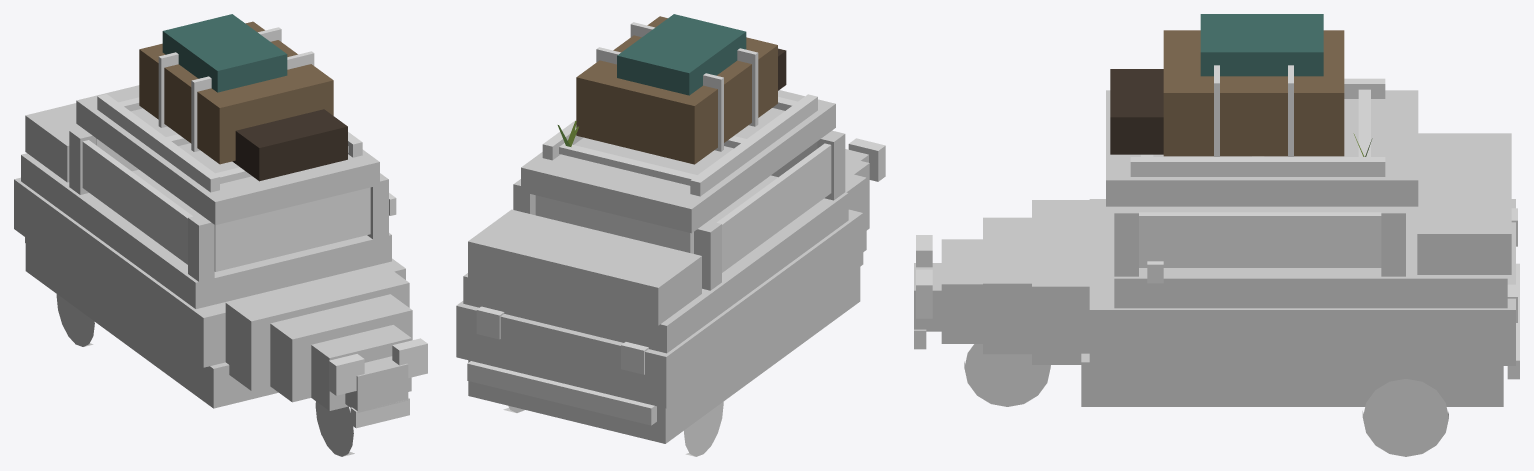
File: threewheeler.glb
3 views of the same model, side by side, from view 1: azimuth 30°, elevation 25°; view 2: azimuth 150°, elevation 25°; view 3: azimuth 270°, elevation 25° (orthographic). The views are drawn at different scales.
Parts seen in each view (by area): view 1: Body_Waist, Body_Tub, Body_Roof, Luggage_Bundle, Body_Snout1, Body_Sill, Windscreen, Body_Snout2, Luggage_Roll, Luggage_Crate, SideGlassL, Body_Snout3 (+13 smaller); view 2: Body_Tub, Body_Tail, Body_Roof, Luggage_Bundle, Body_Waist, Body_Sill, Luggage_Roll, SideGlassL, Bumper_Rear_Grey, RearGlass, Rack_RailL_Grey, Rack_Bar_Grey-72 (+12 smaller); view 3: Body_Tub, Body_Waist, Luggage_Bundle, Body_Sill, Body_Roof, SideGlassR, Body_Tail, Body_Snout1, Luggage_Roll, Body_Snout2, RearRightWheel, Rack_RailR_Grey (+9 smaller).
Part boxes in pixels (x1,y1,x2,y2): Body_Waist: (21, 153, 391, 308); Body_Tub: (14, 177, 405, 367); Body_Roof: (76, 85, 379, 225); Luggage_Bundle: (139, 21, 333, 164); Body_Snout1: (225, 264, 409, 390); Body_Sill: (25, 238, 278, 408); Windscreen: (214, 187, 370, 271); Body_Snout2: (270, 294, 412, 402); Luggage_Roll: (162, 14, 287, 92); Luggage_Crate: (232, 109, 347, 181); SideGlassL: (82, 140, 192, 264); Body_Snout3: (311, 325, 411, 410); Body_Tub: (456, 209, 863, 408); Body_Tail: (468, 209, 701, 325); Body_Roof: (521, 90, 835, 233); Luggage_Bundle: (576, 16, 777, 164); Body_Waist: (463, 175, 848, 353); Body_Sill: (468, 267, 860, 443); Luggage_Roll: (617, 14, 746, 95); SideGlassL: (717, 143, 831, 272); Bumper_Rear_Grey: (467, 361, 656, 425); RearGlass: (535, 195, 693, 253); Rack_RailL_Grey: (690, 94, 817, 196); Rack_Bar_Grey-72: (559, 143, 697, 185); Body_Tub: (1089, 199, 1515, 365); Body_Waist: (1114, 206, 1507, 308); Luggage_Bundle: (1163, 30, 1344, 156); Body_Sill: (1081, 353, 1503, 406); Body_Roof: (1106, 90, 1418, 206); SideGlassR: (1139, 212, 1381, 267); Body_Tail: (1417, 133, 1511, 274); Body_Snout1: (1032, 200, 1089, 364); Luggage_Roll: (1200, 14, 1323, 76); Body_Snout2: (983, 217, 1031, 354); RearRightWheel: (1362, 379, 1448, 456); Rack_RailR_Grey: (1130, 157, 1385, 176).
Bounding box in the file's own units: 1.38 × 1.98 × 2.95.
